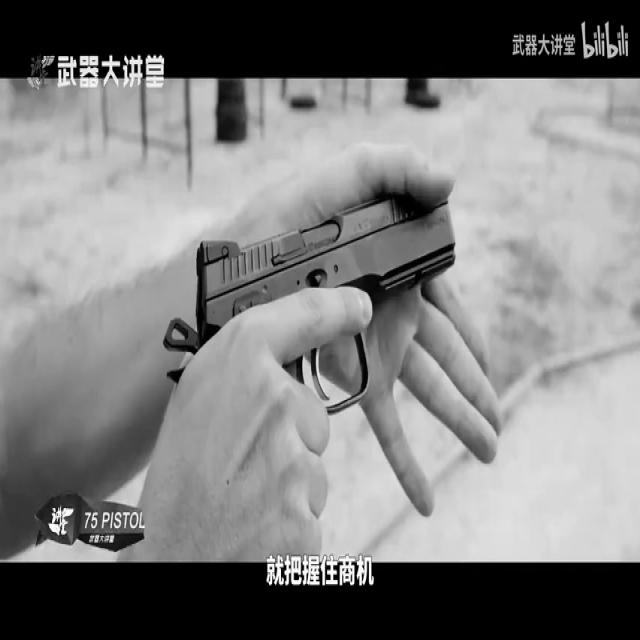Hand-Gun: (160, 172, 460, 460)
